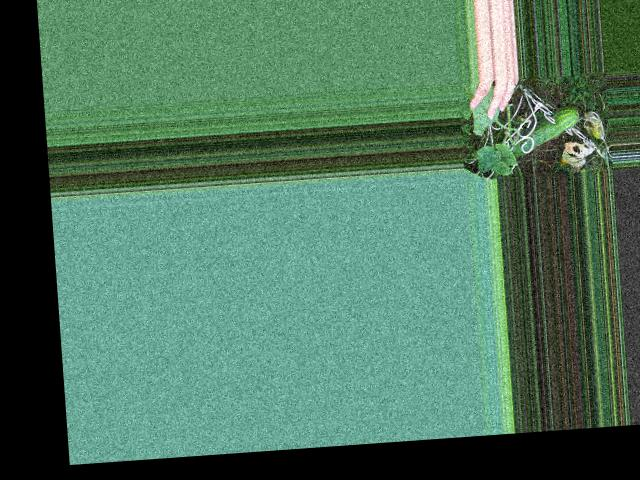cucumber: (508, 105, 581, 157)
